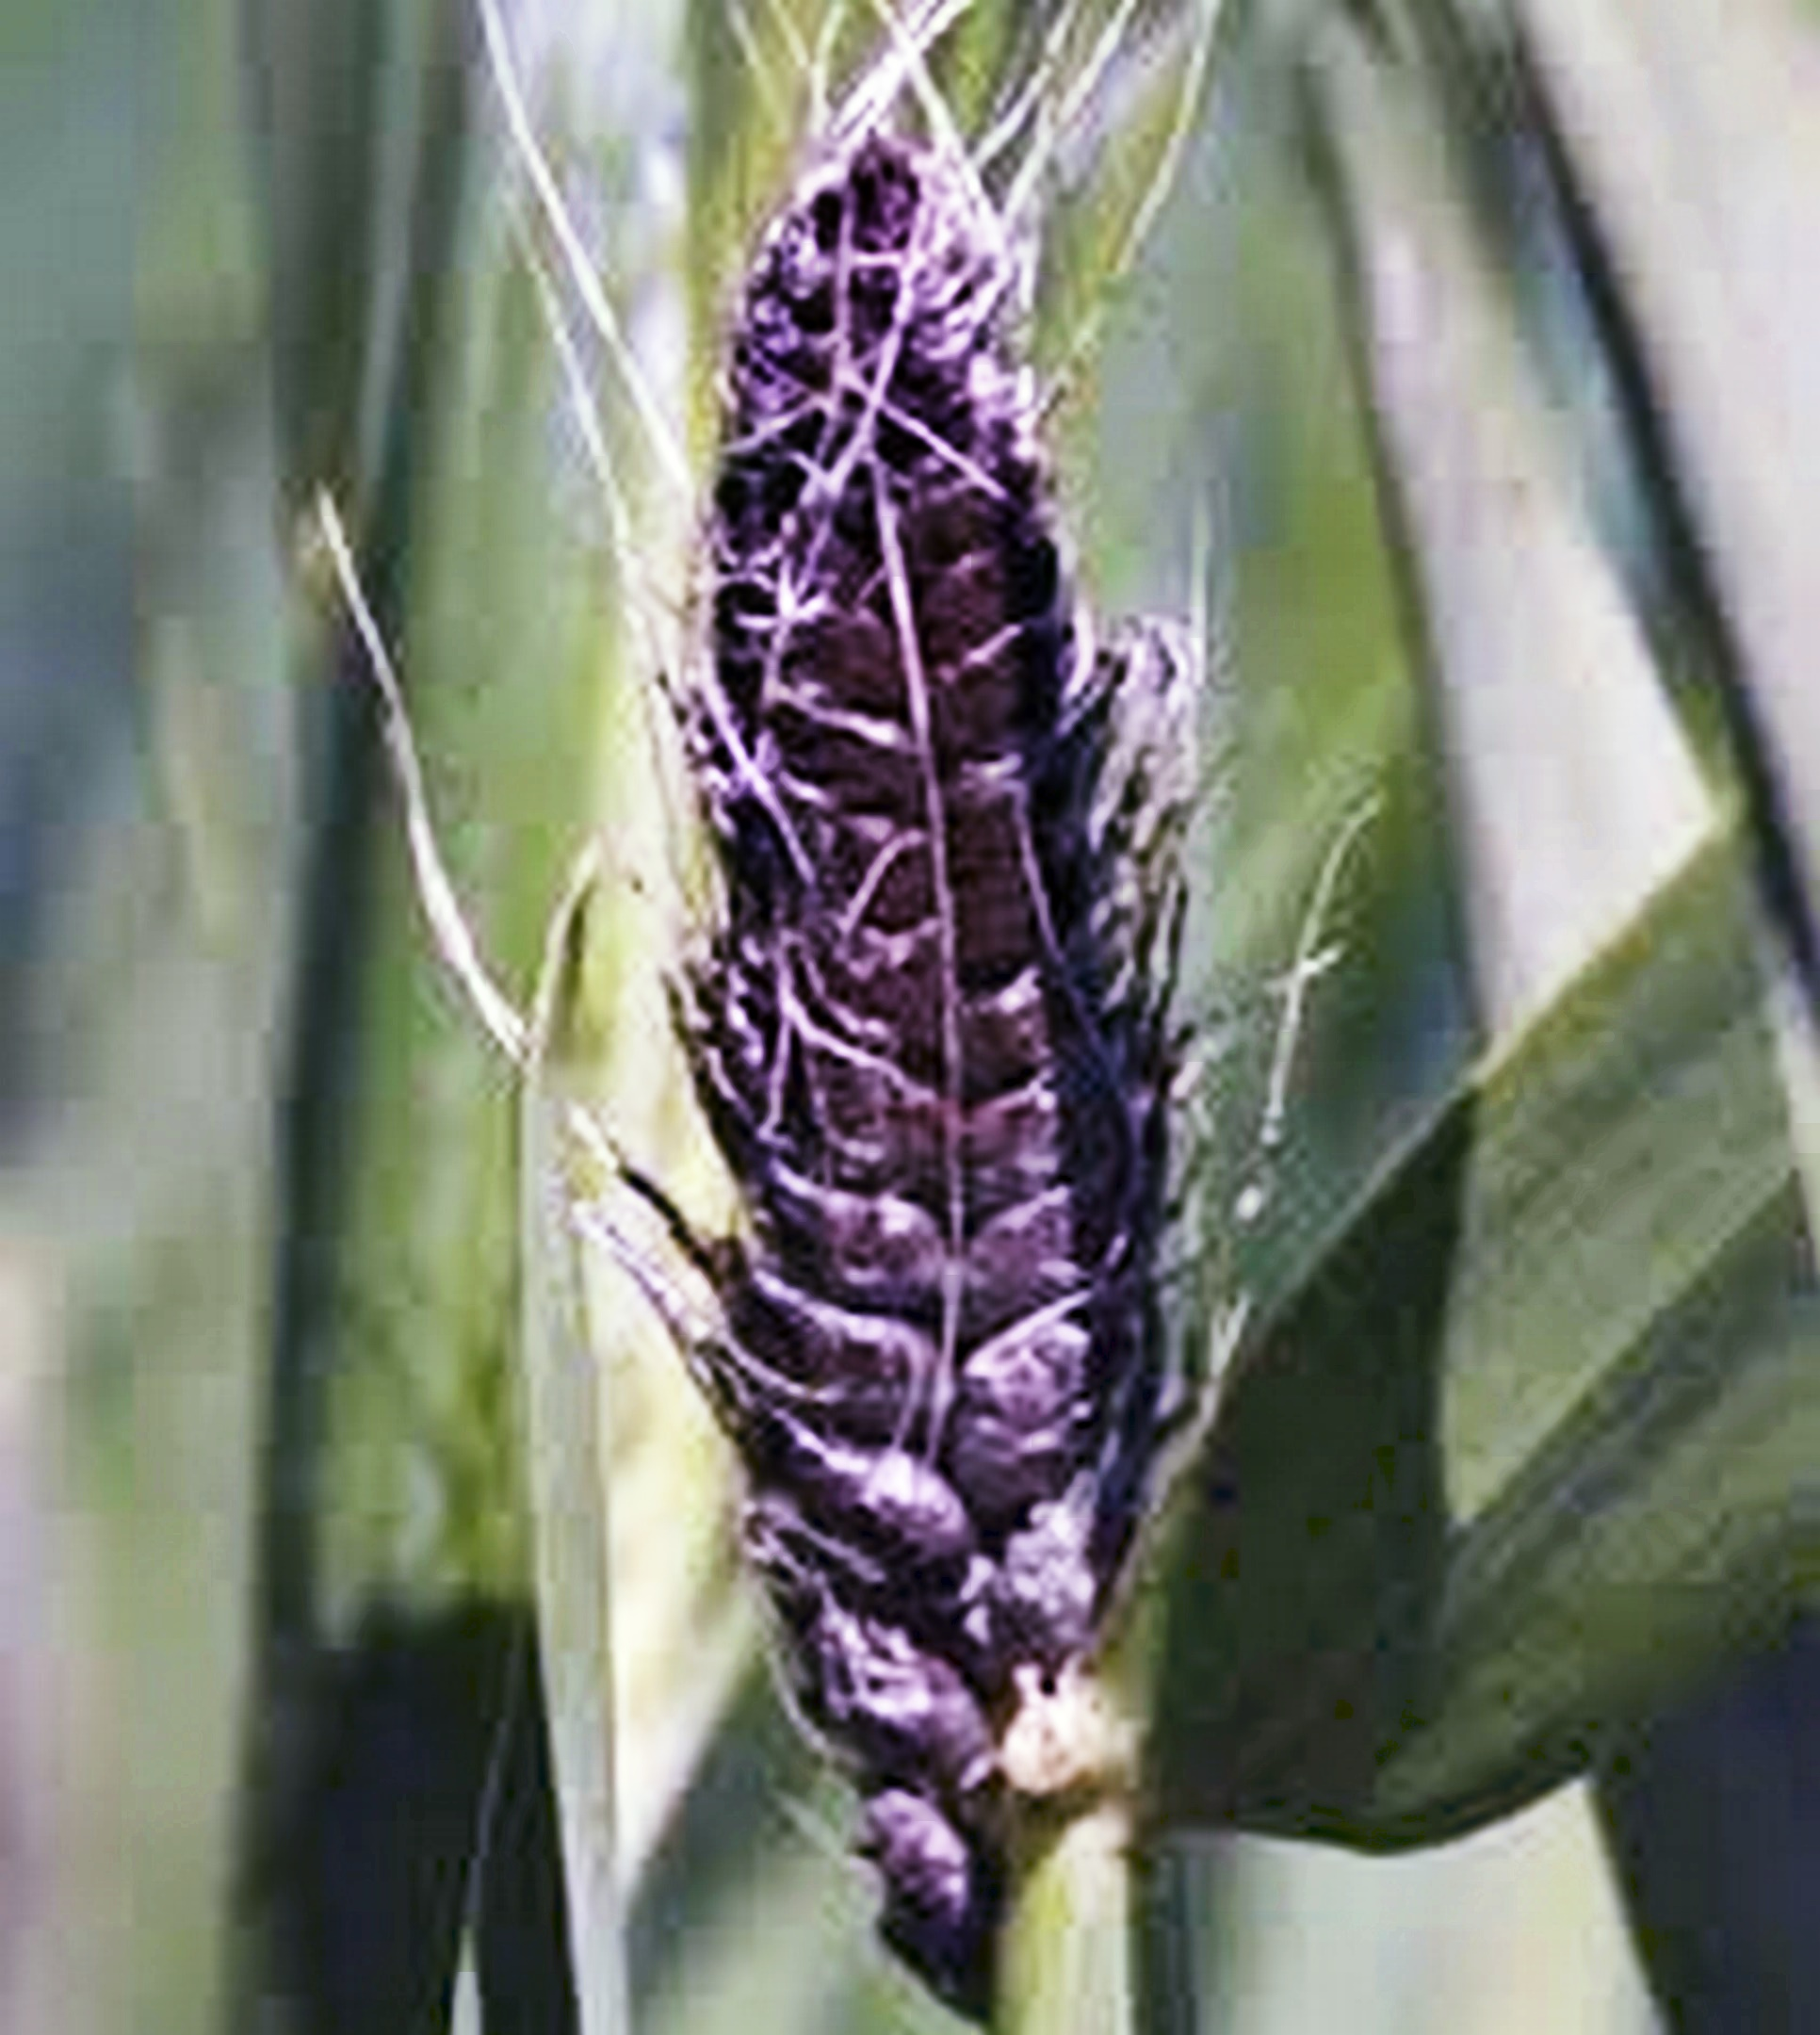Wheat Loose Smut: (631, 130, 1228, 1842)
